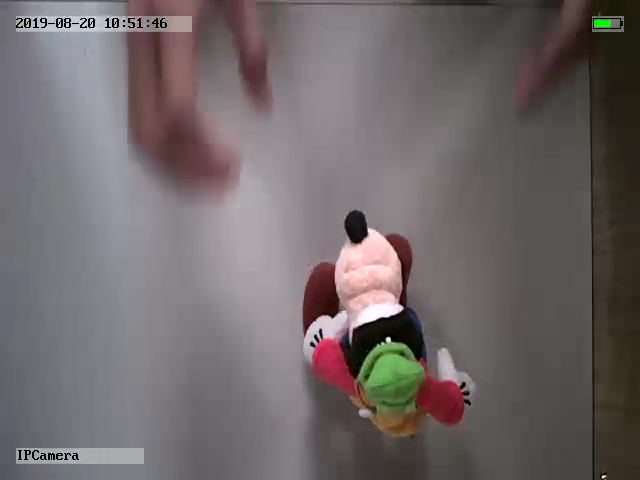goofy: (299, 208, 477, 438)
